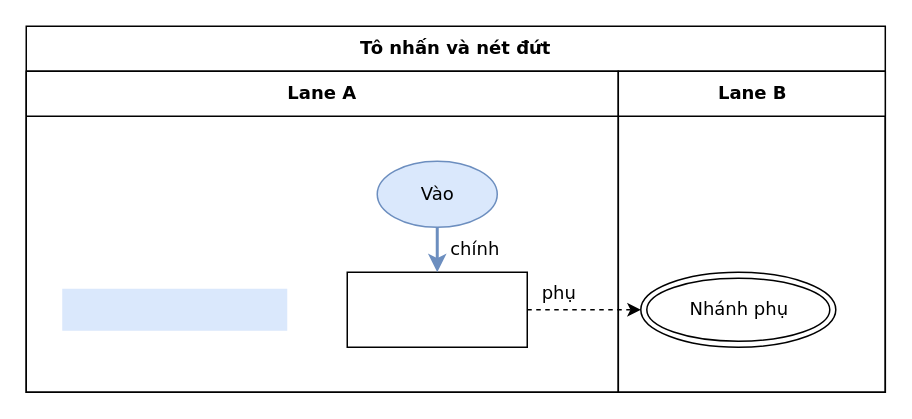
The diagram is 912 pixels wide and 419 high, and some of its shapes have lost their labels. The box of each missing label's shape, as (x1, y1, x2, y2) in pixels:
Ghi chú được tô nhấn: (62, 288, 286, 330)
Xử lý: (346, 271, 527, 347)
